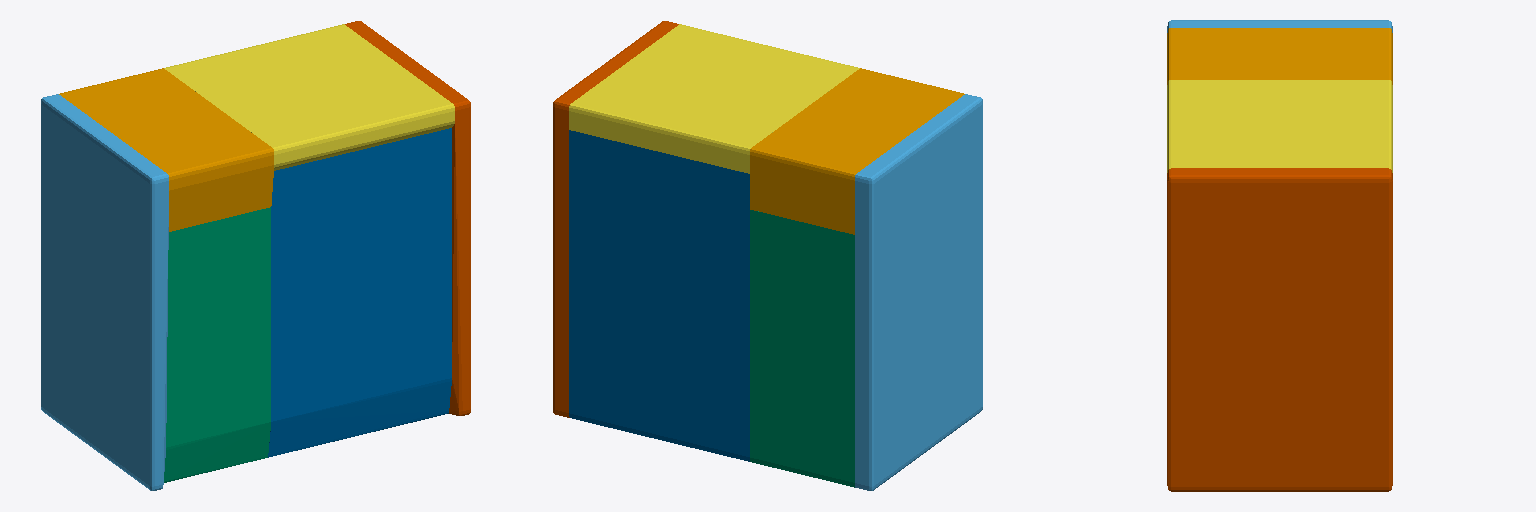
URDF robot description (root):
<robot name="root">
  <link name="link_convex_piece_004.obj">
    <inertial>
      <origin xyz="0 0 0" rpy="0 0 0"/>
    </inertial>
    <visual>
      <origin xyz="0 0 0" rpy="0 0 0"/>
      <geometry>
        <mesh filename="meshes/convex_piece_004.obj" scale="1.0 1.0 1.0"/>
      </geometry>
    </visual>
    <collision>
      <origin xyz="0 0 0" rpy="0 0 0"/>
      <geometry>
        <mesh filename="meshes/convex_piece_004.obj" scale="1.0 1.0 1.0"/>
      </geometry>
    </collision>
  </link>
  <link name="link_convex_piece_001.obj">
    <inertial>
      <origin xyz="0 0 0" rpy="0 0 0"/>
    </inertial>
    <visual>
      <origin xyz="0 0 0" rpy="0 0 0"/>
      <geometry>
        <mesh filename="meshes/convex_piece_001.obj" scale="1.0 1.0 1.0"/>
      </geometry>
    </visual>
    <collision>
      <origin xyz="0 0 0" rpy="0 0 0"/>
      <geometry>
        <mesh filename="meshes/convex_piece_001.obj" scale="1.0 1.0 1.0"/>
      </geometry>
    </collision>
  </link>
  <joint name="link_convex_piece_001.obj_joint" type="fixed">
    <origin xyz="0 0 0" rpy="0 0 0"/>
    <parent link="link_convex_piece_004.obj"/>
    <child link="link_convex_piece_001.obj"/>
  </joint>
  <link name="link_convex_piece_005.obj">
    <inertial>
      <origin xyz="0 0 0" rpy="0 0 0"/>
    </inertial>
    <visual>
      <origin xyz="0 0 0" rpy="0 0 0"/>
      <geometry>
        <mesh filename="meshes/convex_piece_005.obj" scale="1.0 1.0 1.0"/>
      </geometry>
    </visual>
    <collision>
      <origin xyz="0 0 0" rpy="0 0 0"/>
      <geometry>
        <mesh filename="meshes/convex_piece_005.obj" scale="1.0 1.0 1.0"/>
      </geometry>
    </collision>
  </link>
  <joint name="link_convex_piece_005.obj_joint" type="fixed">
    <origin xyz="0 0 0" rpy="0 0 0"/>
    <parent link="link_convex_piece_001.obj"/>
    <child link="link_convex_piece_005.obj"/>
  </joint>
  <link name="link_convex_piece_002.obj">
    <inertial>
      <origin xyz="0 0 0" rpy="0 0 0"/>
    </inertial>
    <visual>
      <origin xyz="0 0 0" rpy="0 0 0"/>
      <geometry>
        <mesh filename="meshes/convex_piece_002.obj" scale="1.0 1.0 1.0"/>
      </geometry>
    </visual>
    <collision>
      <origin xyz="0 0 0" rpy="0 0 0"/>
      <geometry>
        <mesh filename="meshes/convex_piece_002.obj" scale="1.0 1.0 1.0"/>
      </geometry>
    </collision>
  </link>
  <joint name="link_convex_piece_002.obj_joint" type="fixed">
    <origin xyz="0 0 0" rpy="0 0 0"/>
    <parent link="link_convex_piece_005.obj"/>
    <child link="link_convex_piece_002.obj"/>
  </joint>
  <link name="link_convex_piece_003.obj">
    <inertial>
      <origin xyz="0 0 0" rpy="0 0 0"/>
    </inertial>
    <visual>
      <origin xyz="0 0 0" rpy="0 0 0"/>
      <geometry>
        <mesh filename="meshes/convex_piece_003.obj" scale="1.0 1.0 1.0"/>
      </geometry>
    </visual>
    <collision>
      <origin xyz="0 0 0" rpy="0 0 0"/>
      <geometry>
        <mesh filename="meshes/convex_piece_003.obj" scale="1.0 1.0 1.0"/>
      </geometry>
    </collision>
  </link>
  <joint name="link_convex_piece_003.obj_joint" type="fixed">
    <origin xyz="0 0 0" rpy="0 0 0"/>
    <parent link="link_convex_piece_002.obj"/>
    <child link="link_convex_piece_003.obj"/>
  </joint>
  <link name="link_convex_piece_000.obj">
    <inertial>
      <origin xyz="0 0 0" rpy="0 0 0"/>
    </inertial>
    <visual>
      <origin xyz="0 0 0" rpy="0 0 0"/>
      <geometry>
        <mesh filename="meshes/convex_piece_000.obj" scale="1.0 1.0 1.0"/>
      </geometry>
    </visual>
    <collision>
      <origin xyz="0 0 0" rpy="0 0 0"/>
      <geometry>
        <mesh filename="meshes/convex_piece_000.obj" scale="1.0 1.0 1.0"/>
      </geometry>
    </collision>
  </link>
  <joint name="link_convex_piece_000.obj_joint" type="fixed">
    <origin xyz="0 0 0" rpy="0 0 0"/>
    <parent link="link_convex_piece_003.obj"/>
    <child link="link_convex_piece_000.obj"/>
  </joint>
</robot>

--- What the picture shows (computed from the rendered views, not written in the file) ---
3 views of the same robot in one strip: view 1: azimuth 30°, elevation 25°; view 2: azimuth 150°, elevation 25°; view 3: azimuth 270°, elevation 25° (orthographic).
Robot: root — 6 links, 5 joints (5 fixed); root link link_convex_piece_004.obj; default pose: all joints at 0.
Links seen in each view (by area): view 1: link_convex_piece_003.obj, link_convex_piece_001.obj, link_convex_piece_005.obj, link_convex_piece_002.obj, link_convex_piece_004.obj, link_convex_piece_000.obj; view 2: link_convex_piece_003.obj, link_convex_piece_001.obj, link_convex_piece_005.obj, link_convex_piece_002.obj, link_convex_piece_004.obj, link_convex_piece_000.obj; view 3: link_convex_piece_000.obj, link_convex_piece_002.obj, link_convex_piece_004.obj, link_convex_piece_001.obj.
Link boxes in pixels (left/top/right/bottom): link_convex_piece_003.obj: left=268, top=128, right=451, bottom=457; link_convex_piece_001.obj: left=41, top=94, right=168, bottom=490; link_convex_piece_005.obj: left=164, top=207, right=270, bottom=482; link_convex_piece_002.obj: left=164, top=24, right=454, bottom=170; link_convex_piece_004.obj: left=59, top=68, right=273, bottom=231; link_convex_piece_000.obj: left=345, top=21, right=470, bottom=415; link_convex_piece_003.obj: left=569, top=130, right=749, bottom=461; link_convex_piece_001.obj: left=855, top=94, right=982, bottom=490; link_convex_piece_005.obj: left=750, top=210, right=854, bottom=487; link_convex_piece_002.obj: left=569, top=24, right=859, bottom=173; link_convex_piece_004.obj: left=750, top=68, right=964, bottom=234; link_convex_piece_000.obj: left=553, top=21, right=678, bottom=417; link_convex_piece_000.obj: left=1167, top=168, right=1392, bottom=491; link_convex_piece_002.obj: left=1167, top=80, right=1392, bottom=172; link_convex_piece_004.obj: left=1167, top=28, right=1392, bottom=84; link_convex_piece_001.obj: left=1167, top=20, right=1392, bottom=32.
Bounding box of the posed robot: 1.35 × 0.8181 × 1.26 m (x, y, z).
6 mesh visuals loaded from 6 distinct referenced files (6 OBJ).
